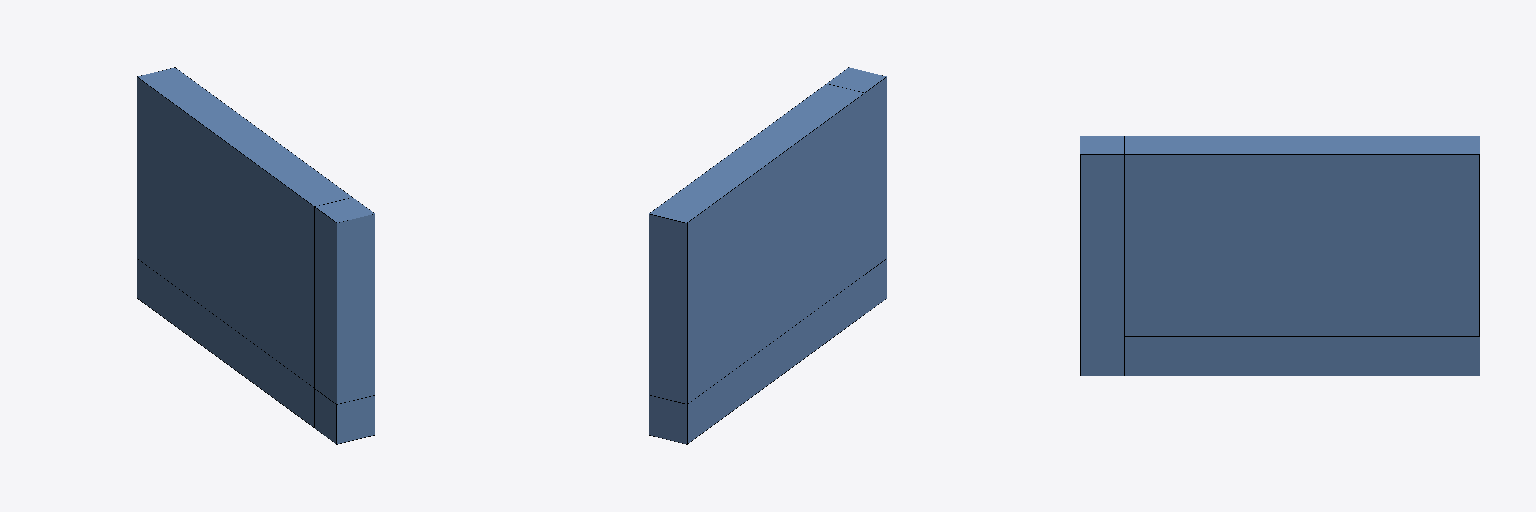
3 views of the same model, side by side, from view 1: azimuth 30°, elevation 25°; view 2: azimuth 150°, elevation 25°; view 3: azimuth 270°, elevation 25° (orthographic).
Size of the model in its own units: 2 by 11 by 18.
Materials: 1 (1 with a texture image).